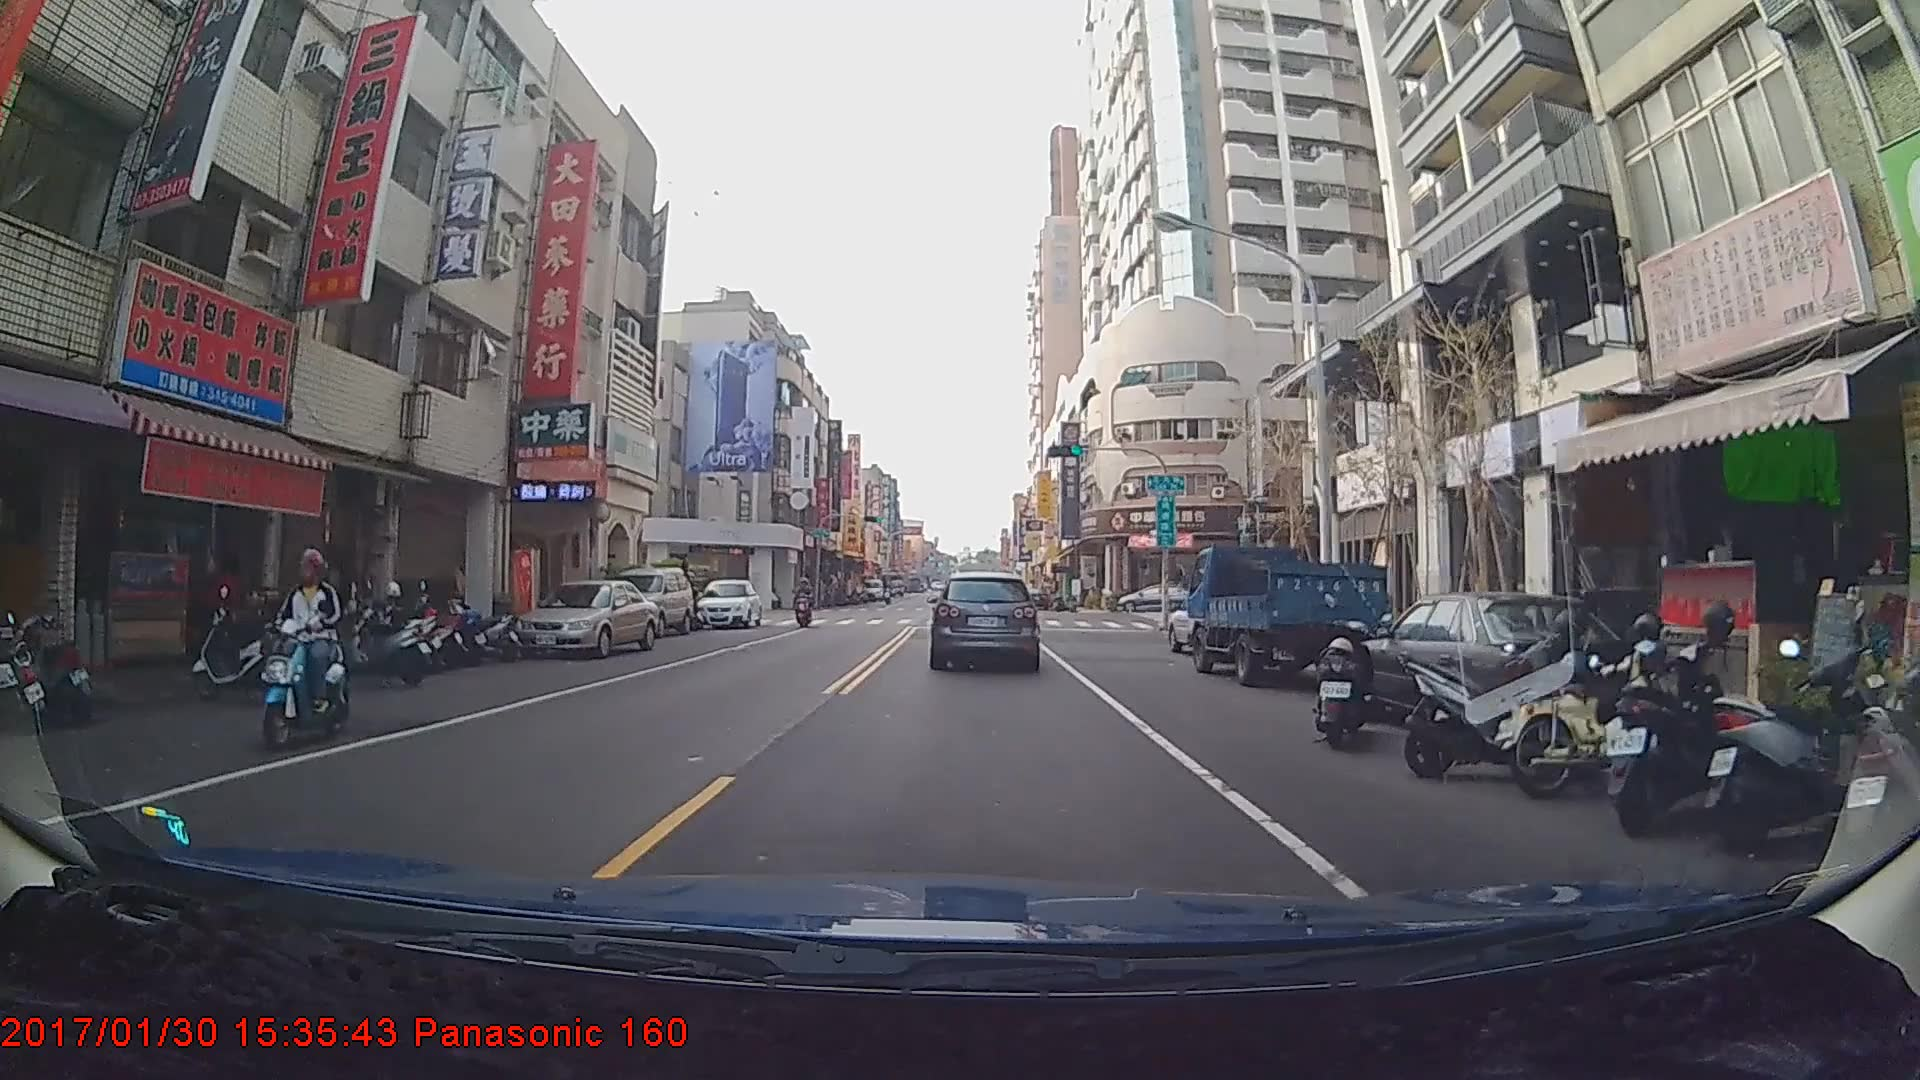rider: (253, 543, 358, 748), (794, 578, 816, 627)
vehicle: (1184, 545, 1388, 686), (509, 577, 656, 658), (929, 570, 1040, 671), (600, 562, 695, 638), (696, 577, 761, 629), (1117, 580, 1194, 612), (859, 577, 884, 601)
